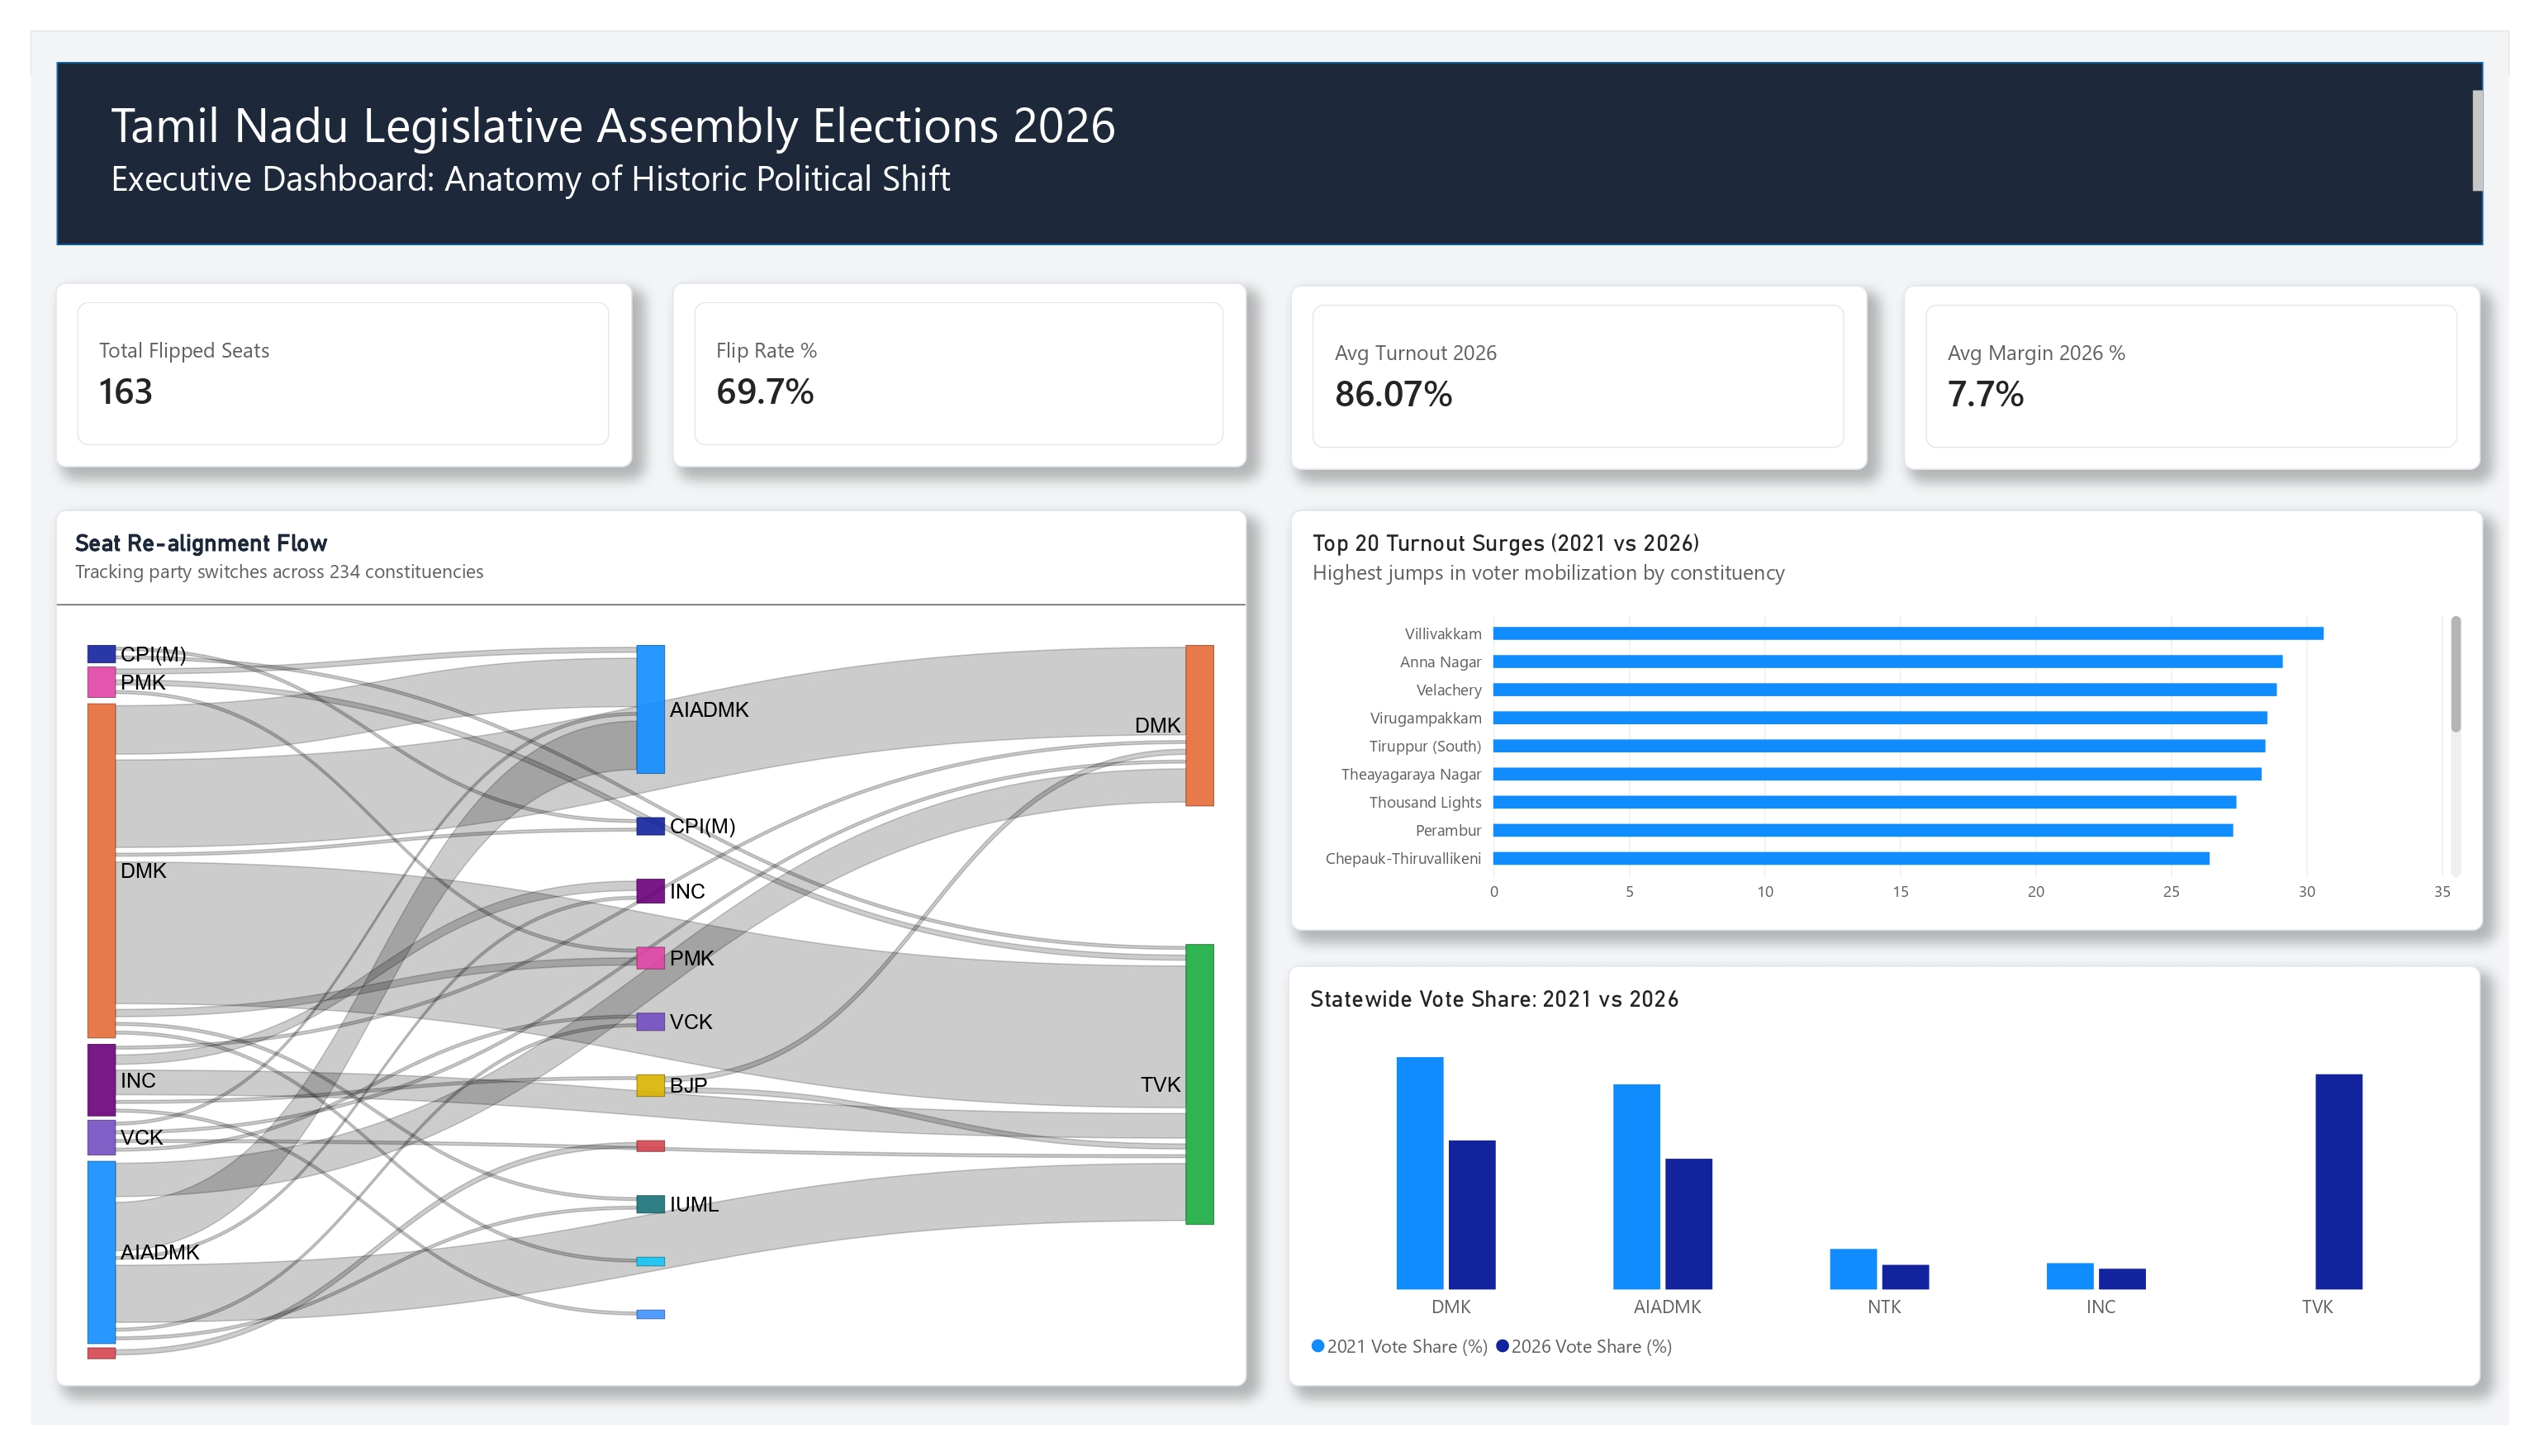

The page's visual inventory and layout, read from the dashboard file:
{"tool":"powerbi","page":{"name":"Executive Summary","canvas":[1920,1080],"ordinal":0},"visuals":[{"type":"shape","box":[20,24,1880,142],"z":0},{"type":"textbox","box":[20,46,1880,90],"z":1000},{"type":"SankeyDiagram1446463184954","title":"Seat Re-alignment Flow","fields":{"Source":["powerbi_seat_flips.party_2021"],"Destination":["powerbi_seat_flips.party_2026"],"Weight":["CountNonNull(powerbi_seat_flips.ac_number)"]},"box":[19.1,370.5,922.4,679.9],"z":2000},{"type":"cardVisual","fields":{"Data":["_Measures.Flip Rate %"]},"box":[496.6,194.8,445,143.2],"z":3000},{"type":"cardVisual","fields":{"Data":["_Measures.Total Flipped Seats"]},"box":[19.1,194.8,446.9,143.2],"z":4000},{"type":"cardVisual","fields":{"Data":["_Measures.Avg Turnout 2026"]},"box":[975.9,196.7,446.9,143.2],"z":5000},{"type":"cardVisual","fields":{"Data":["_Measures.Avg Margin 2026 %"]},"box":[1451.4,197.1,446.9,143.2],"z":6000},{"type":"clusteredBarChart","title":"Top 20 Turnout Surges (2021 vs 2026)","fields":{"Category":["powerbi_turnout.constituency"],"Y":["Sum(powerbi_turnout.turnout_diff)"]},"box":[975.9,370.5,924.4,326.6],"z":7000},{"type":"clusteredColumnChart","title":"Statewide Vote Share: 2021 vs 2026","fields":{"Category":["powerbi_vote_shares.party"],"Y":["Sum(powerbi_vote_shares.vote_share_2021)","Sum(powerbi_vote_shares.vote_share_2026)"]},"box":[974,723.8,924.4,326.6],"z":8000}]}

Visuals, with their boxes on the page's 1920x1080 design canvas (x1, y1, x2, y2). These are canvas units, not pixel positions in the 2540x1456 screenshot, which may show the page scaled, cropped or inside an application window:
shape: bbox=[20, 24, 1900, 166]
textbox: bbox=[20, 46, 1900, 136]
"Seat Re-alignment Flow" SankeyDiagram1446463184954: bbox=[19, 370, 942, 1050]
cardVisual - _Measures.Flip Rate %: bbox=[497, 195, 942, 338]
cardVisual - _Measures.Total Flipped Seats: bbox=[19, 195, 466, 338]
cardVisual - _Measures.Avg Turnout 2026: bbox=[976, 197, 1423, 340]
cardVisual - _Measures.Avg Margin 2026 %: bbox=[1451, 197, 1898, 340]
"Top 20 Turnout Surges (2021 vs 2026)" clusteredBarChart: bbox=[976, 370, 1900, 697]
"Statewide Vote Share: 2021 vs 2026" clusteredColumnChart: bbox=[974, 724, 1898, 1050]
